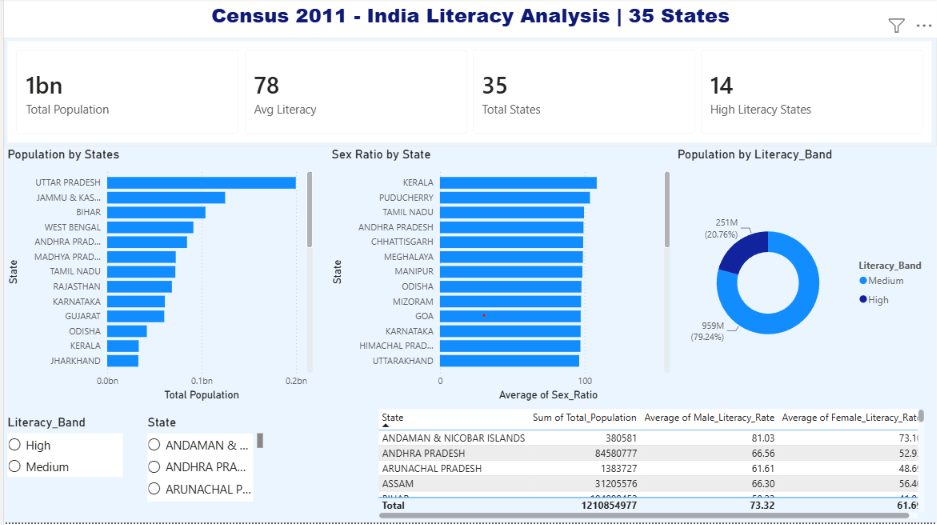

Layout of this report page (visuals, bound fields, positions):
{"tool":"powerbi","page":{"name":"Page 1","canvas":[1280,720],"ordinal":0},"visuals":[{"type":"textbox","box":[0,0,1280.3,54.9],"z":0},{"type":"cardVisual","fields":{"Data":["Census_2011(Analysis) - Clean data.Total Population","Census_2011(Analysis) - Clean data.Avg Literacy","Census_2011(Analysis) - Clean data.Total States","Census_2011(Analysis) - Clean data.High Literacy States"]},"box":[0,55,1280.3,149.2],"z":1000},{"type":"listSlicer","fields":{"Values":["Census_2011(Analysis) - Clean data.Literacy_Band"]},"box":[0,571.8,168.1,124.1],"z":2000},{"type":"listSlicer","fields":{"Values":["Census_2011(Analysis) - Clean data.State"]},"box":[191.7,571.8,168.1,124.1],"z":3000},{"type":"barChart","title":"Population by States","fields":{"Category":["Census_2011(Analysis) - Clean data.State"],"Y":["Census_2011(Analysis) - Clean data.Total Population"]},"box":[0,204.2,428.9,353.5],"z":4000},{"type":"donutChart","title":"Population by Literacy_Band","fields":{"Category":["Census_2011(Analysis) - Clean data.Literacy_Band"],"Y":["Sum(Census_2011(Analysis) - Clean data.Total_Population)"]},"box":[919,204.2,361.3,353.5],"z":5000},{"type":"barChart","title":"Sex Ratio by State","fields":{"Category":["Census_2011(Analysis) - Clean data.State"],"Y":["Avg(Census_2011(Analysis) - Clean data.Sex_Ratio)"]},"box":[444.6,204.2,474.4,353.5],"z":5001},{"type":"tableEx","fields":{"Values":["Census_2011(Analysis) - Clean data.State","Sum(Census_2011(Analysis) - Clean data.Total_Population)","Avg(Census_2011(Analysis) - Clean data.Male_Literacy_Rate)","Avg(Census_2011(Analysis) - Clean data.Female_Literacy_Rate)"]},"box":[507.4,559.3,760.3,160.2],"z":5002}]}

Visuals, with their boxes in screenshot pixels (x1, y1, x2, y2), scaled from the page's 1280x720 canvas onto the 937x525 screenshot:
textbox: box(0, 0, 936, 40)
cardVisual - Census_2011(Analysis) - Clean data.Total Population x Census_2011(Analysis) - Clean data.Avg Literacy: box(0, 40, 936, 149)
listSlicer - Census_2011(Analysis) - Clean data.Literacy_Band: box(0, 417, 123, 507)
listSlicer - Census_2011(Analysis) - Clean data.State: box(140, 417, 263, 507)
"Population by States" barChart: box(0, 149, 314, 407)
"Population by Literacy_Band" donutChart: box(673, 149, 936, 407)
"Sex Ratio by State" barChart: box(325, 149, 673, 407)
tableEx - Census_2011(Analysis) - Clean data.State x Sum(Census_2011(Analysis) - Clean data.Total_Population): box(371, 408, 928, 524)
